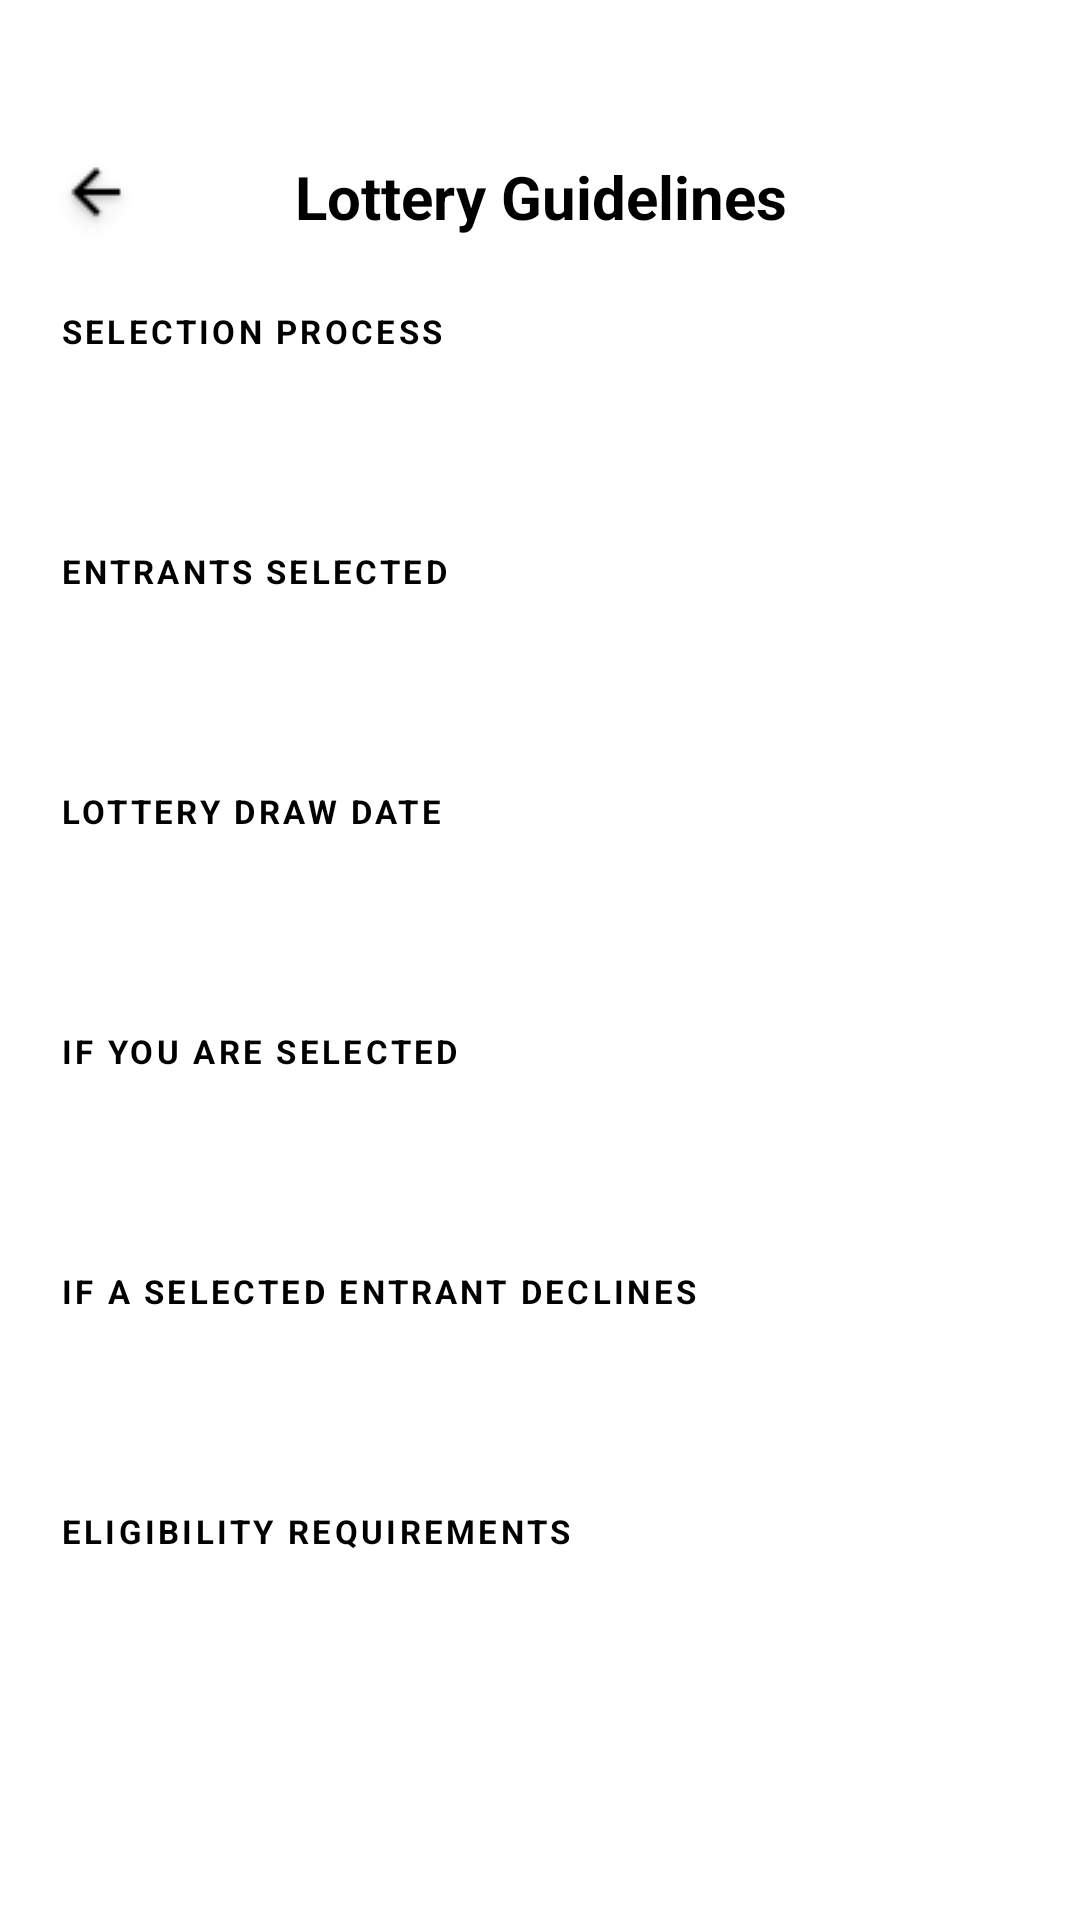

Icons on this 1080 x 1920 Android screen, each with the point to tap as (x=x, y=y):
Back: (x=96, y=193)
